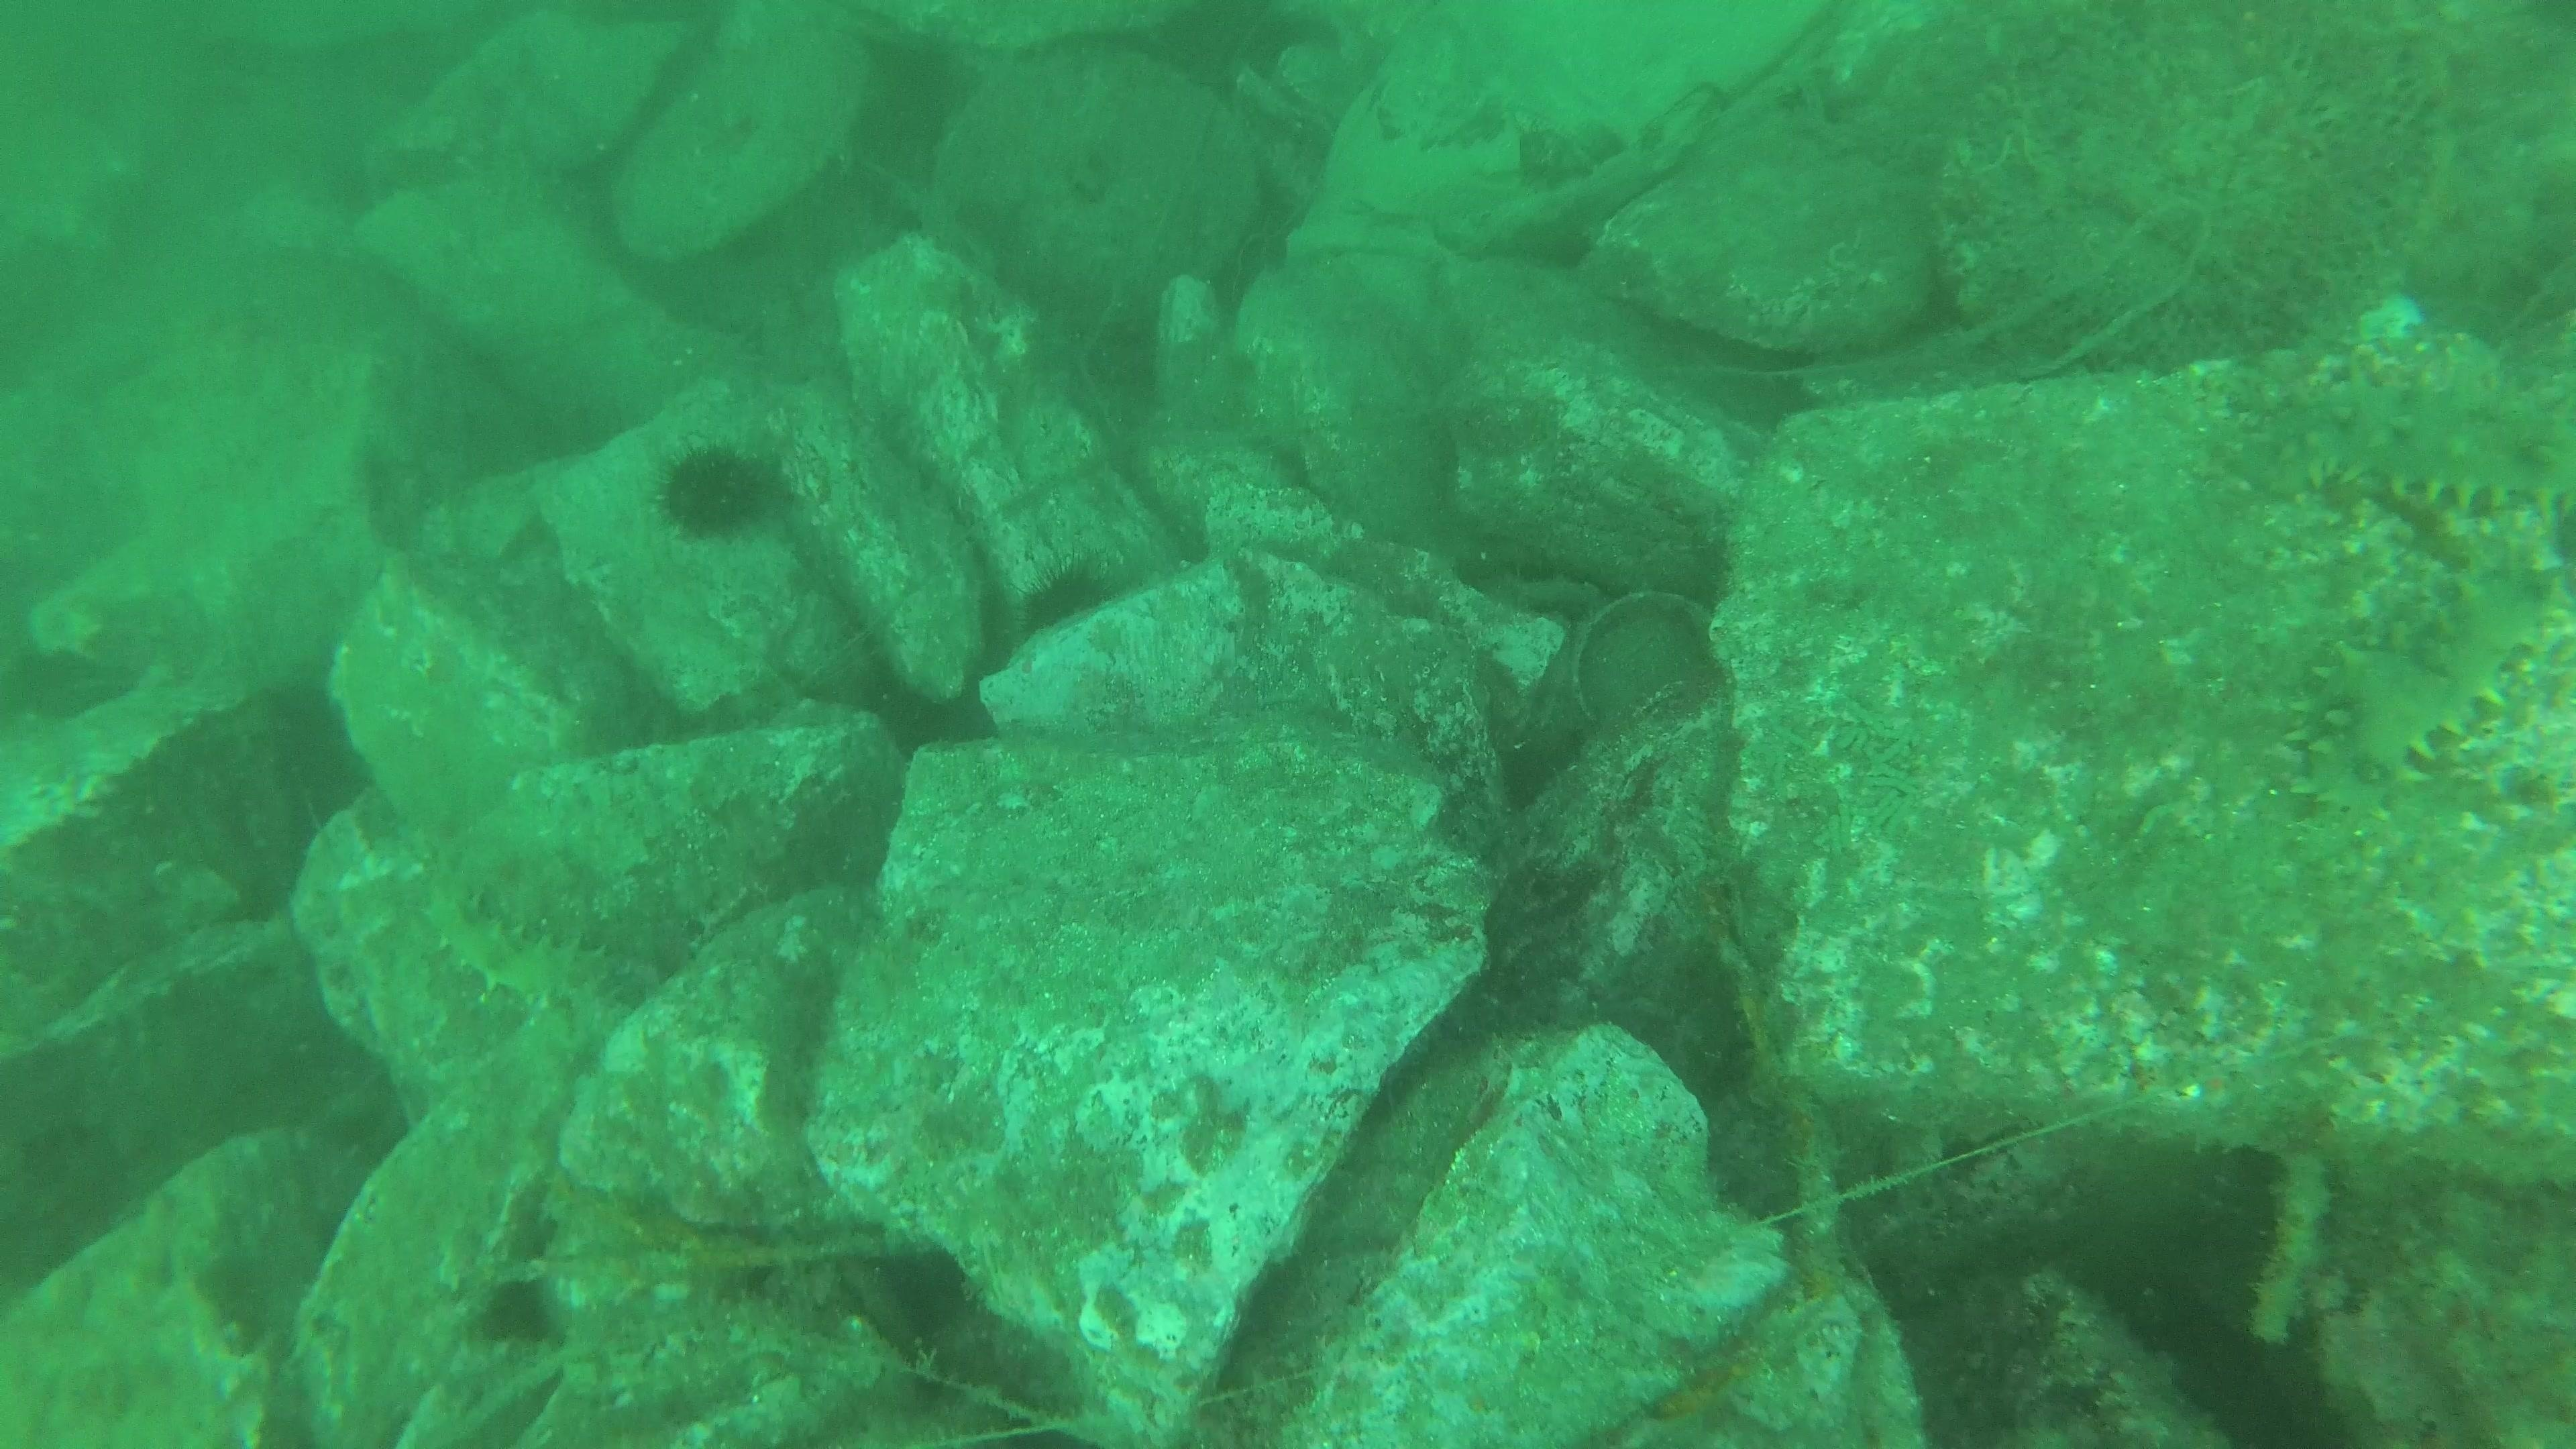echinus: (651, 435, 787, 545)
holothurian: (2288, 541, 2562, 816), (2252, 366, 2572, 524), (419, 885, 616, 1021)
